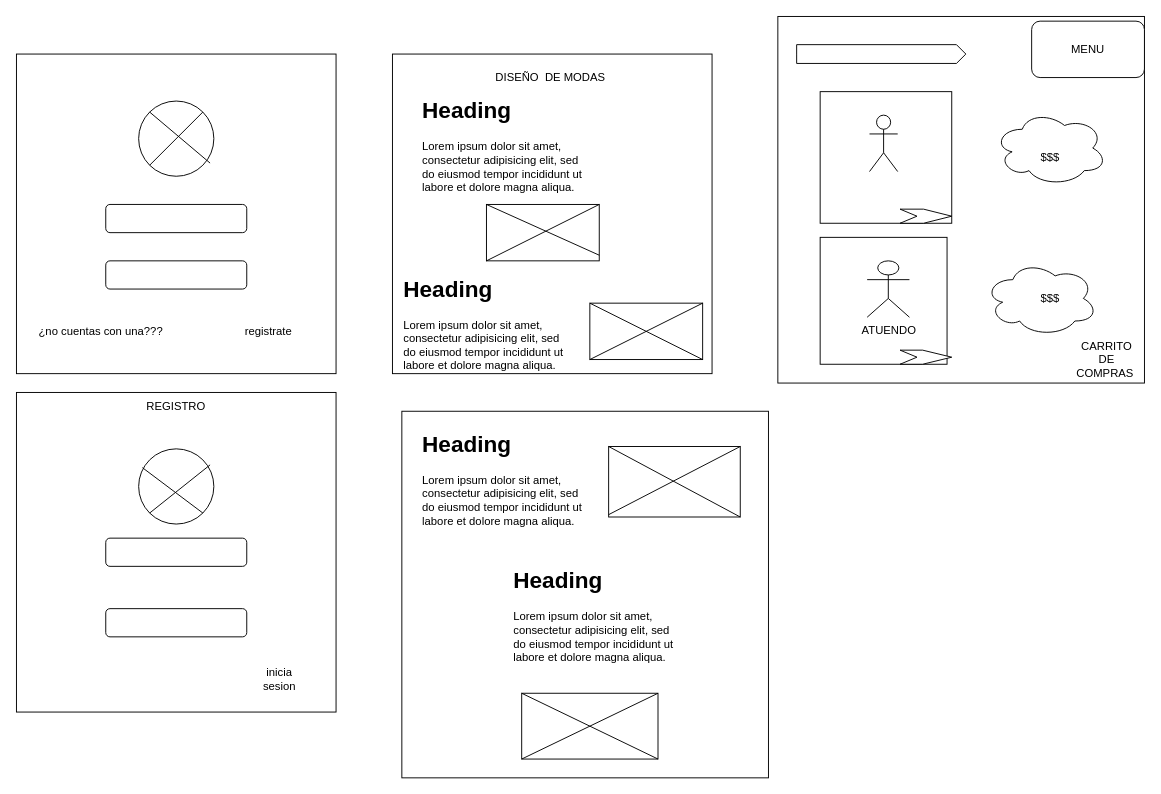
Some shapes in this 1161 by 794 pixel diagram are drawn without their labels. Each missing label, with the centre of its shape:
BUSCAR OUTFIT: the point at 881,53
OUTFIT: the point at 883,143
